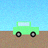vehicle: (13, 22, 39, 37)
